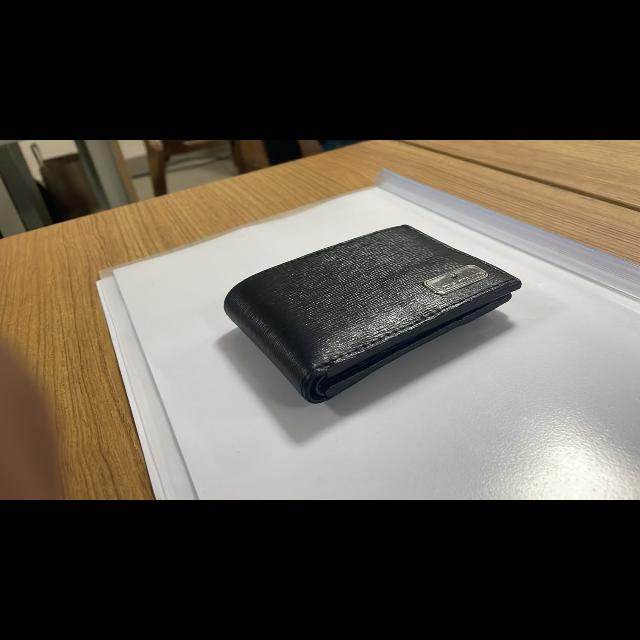wallet: (209, 218, 537, 410)
